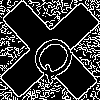Q: (25, 25, 87, 87)
